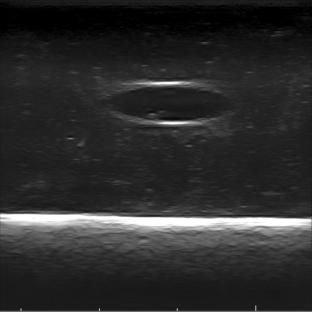vessel: (111, 81, 233, 126)
